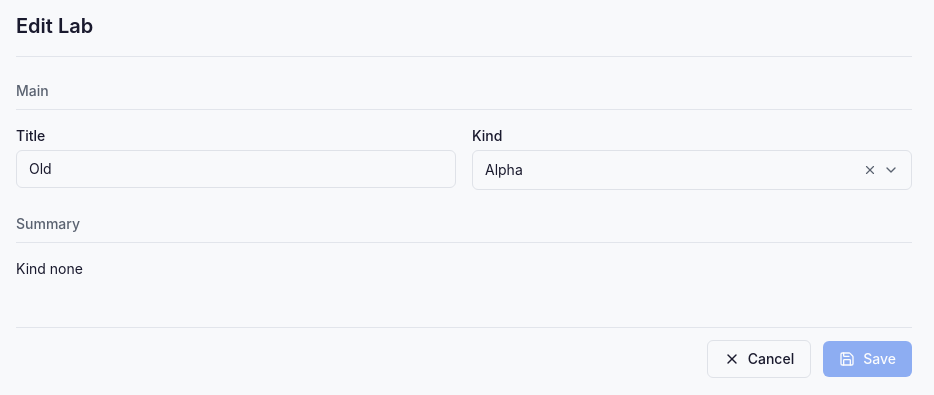
Test: field rules › reloads a widget section with the source field's new value
The image size is (934, 395).
Expected: the text "Kind none" is shown, [16, 260, 83, 277]
Step 1. Click the dropdown named "Kind" → (692, 170), box [472, 150, 912, 190]
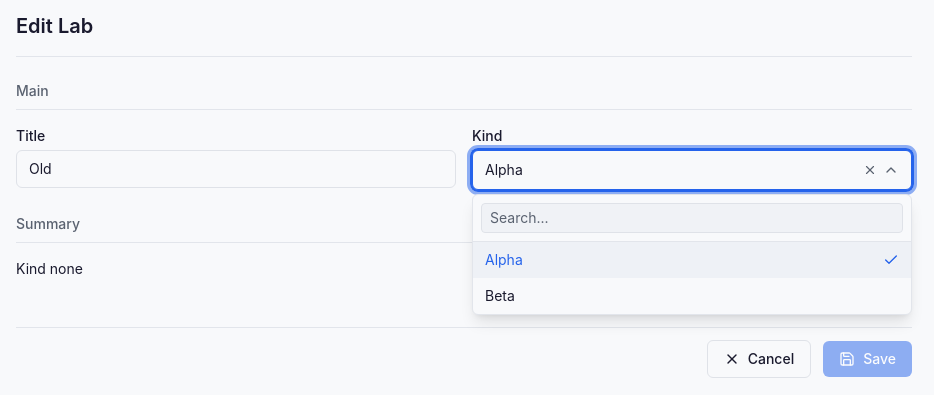
Step 2. Click the option "Beta" → (500, 296), box [485, 287, 515, 304]
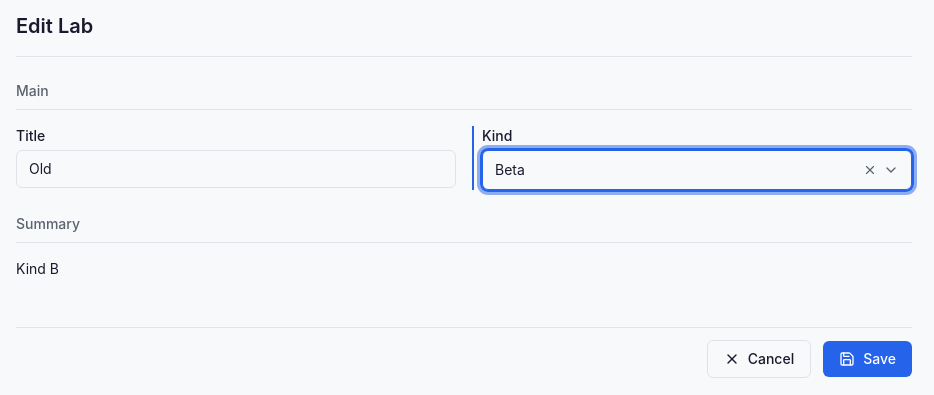
Expected: the text "Kind B" is shown, [16, 260, 59, 277]
